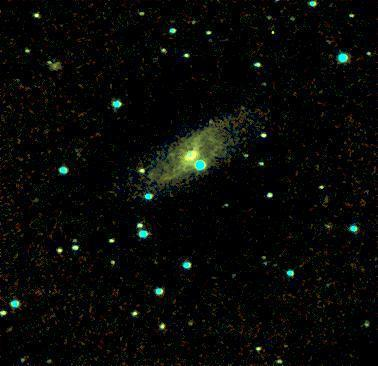star: (42, 50, 72, 80)
